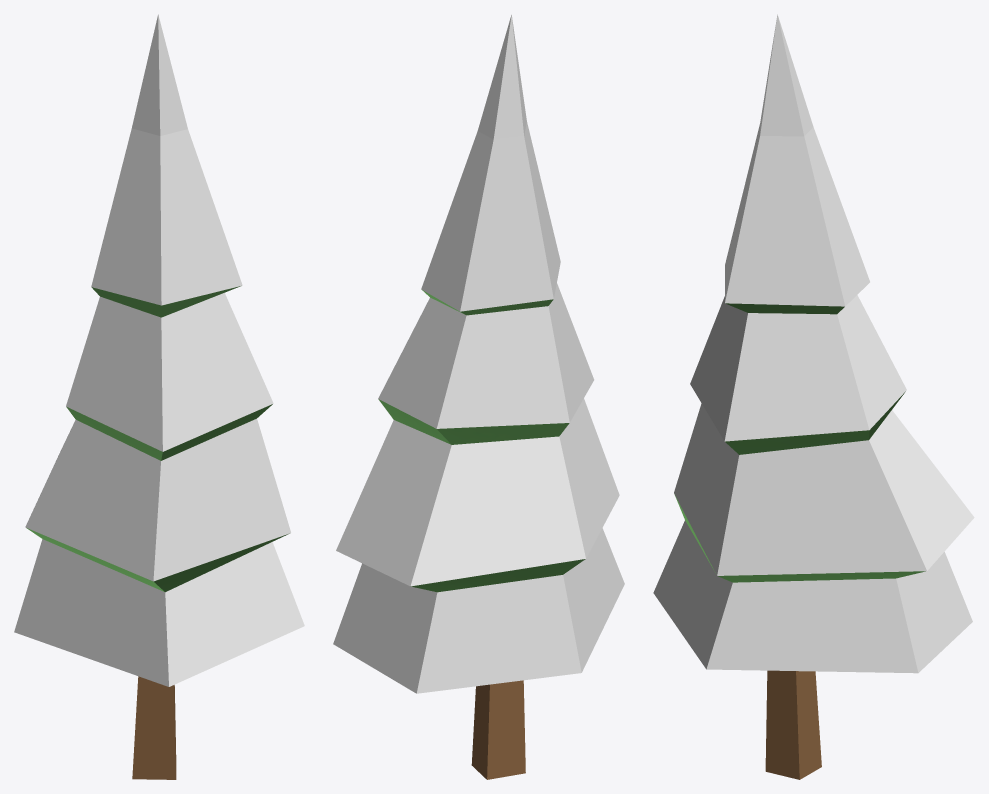
The model's file is Fir_Tree_m_Snow_BT_09.fbx.
The picture shows the model from 3 angles, left to right: view 1: azimuth 30°, elevation 25°; view 2: azimuth 150°, elevation 25°; view 3: azimuth 270°, elevation 25°; orthographic projection.
Visible parts, largest first — view 1: Fir_Tree_m_Snow_BT_09; view 2: Fir_Tree_m_Snow_BT_09; view 3: Fir_Tree_m_Snow_BT_09.
Boxes of the visible parts, x1,y1,x2,y2 form: Fir_Tree_m_Snow_BT_09: (14, 14, 304, 779); Fir_Tree_m_Snow_BT_09: (333, 15, 624, 779); Fir_Tree_m_Snow_BT_09: (653, 14, 974, 779).
Bounding box in the file's own units: 137 × 459 × 178.
